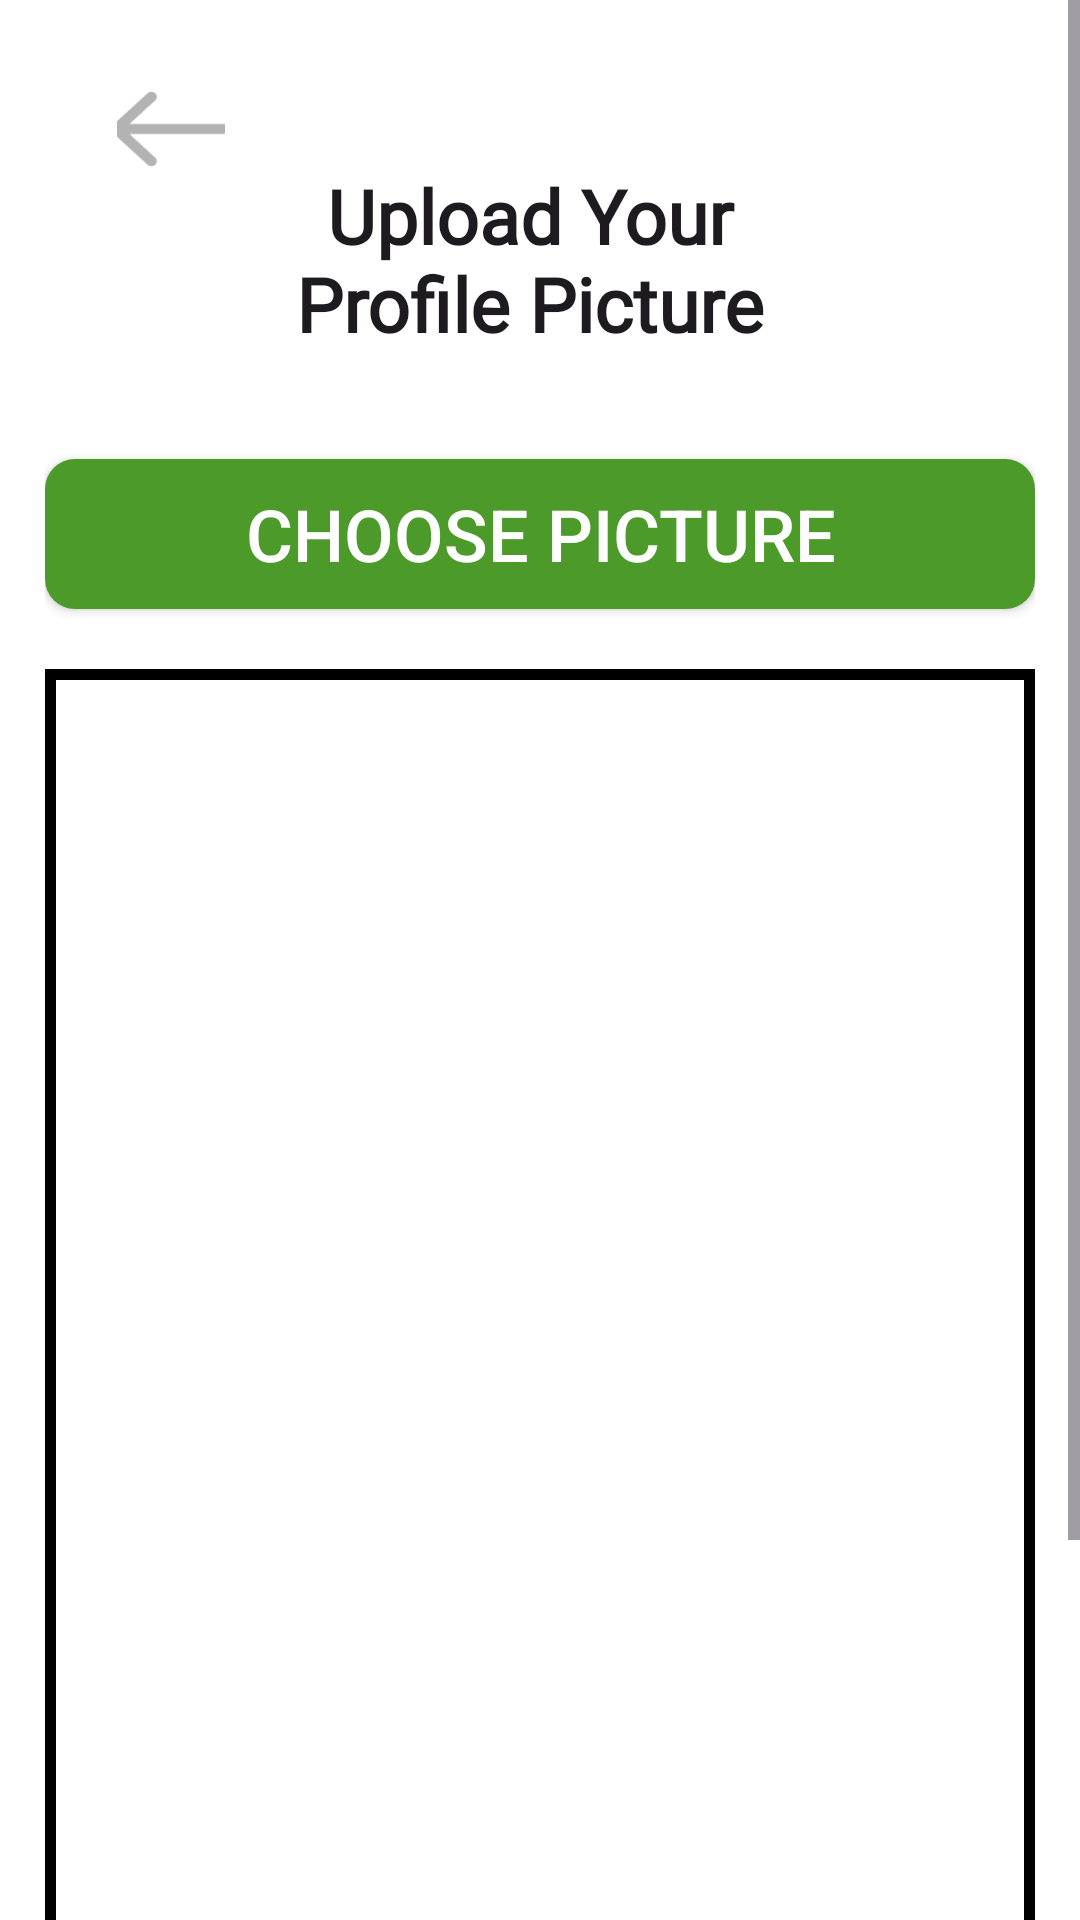

Screen size 1080px×1920px. Icon name, then its center in pixels as (x,y):
return button: (171,129)
